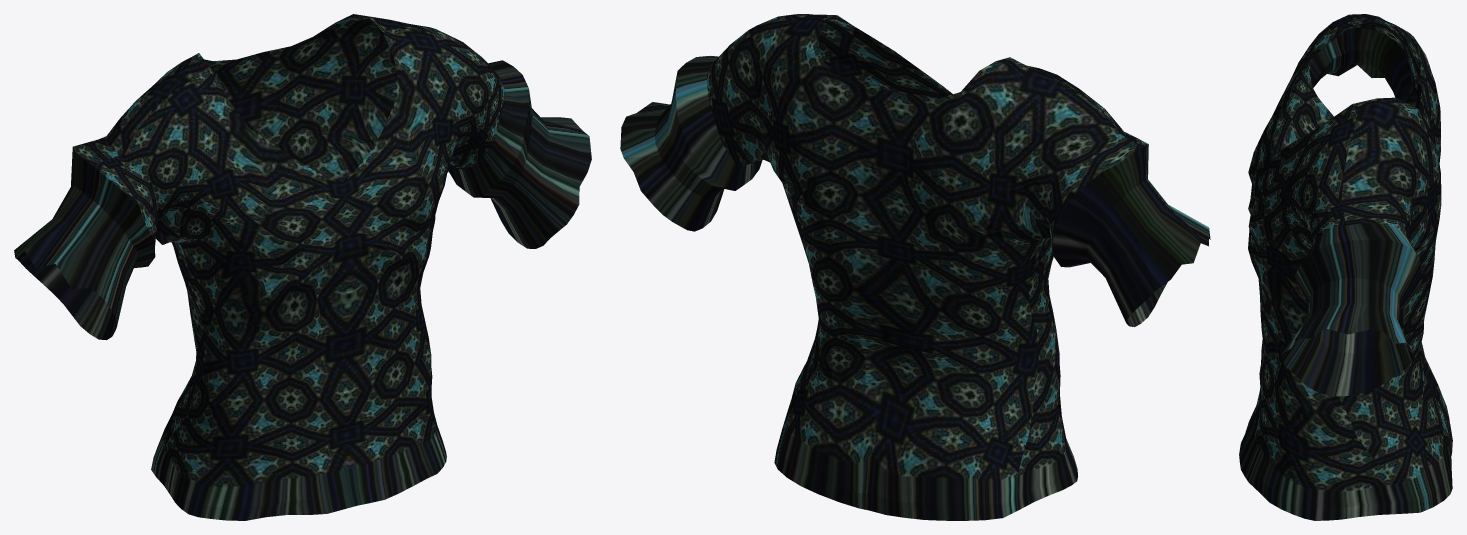
The model's file is mhw_elvs_ruffle_sleeve_peasant_blouse_1.glb.
The picture shows the model from 3 angles, left to right: view 1: azimuth 30°, elevation 25°; view 2: azimuth 150°, elevation 25°; view 3: azimuth 270°, elevation 25°; orthographic projection. The views are drawn at different scales.
Parts seen in each view (by area): view 1: mhw_elvs_ruffle_sleeve_peasant_blouse_1; view 2: mhw_elvs_ruffle_sleeve_peasant_blouse_1; view 3: mhw_elvs_ruffle_sleeve_peasant_blouse_1.
Part boxes in pixels (left/top/right/bottom): mhw_elvs_ruffle_sleeve_peasant_blouse_1: left=14, top=14, right=591, bottom=520; mhw_elvs_ruffle_sleeve_peasant_blouse_1: left=620, top=14, right=1210, bottom=520; mhw_elvs_ruffle_sleeve_peasant_blouse_1: left=1239, top=14, right=1452, bottom=520.
Size of the model in its own units: 0.802 by 0.595 by 0.2807.
1 material, 1 textured.
